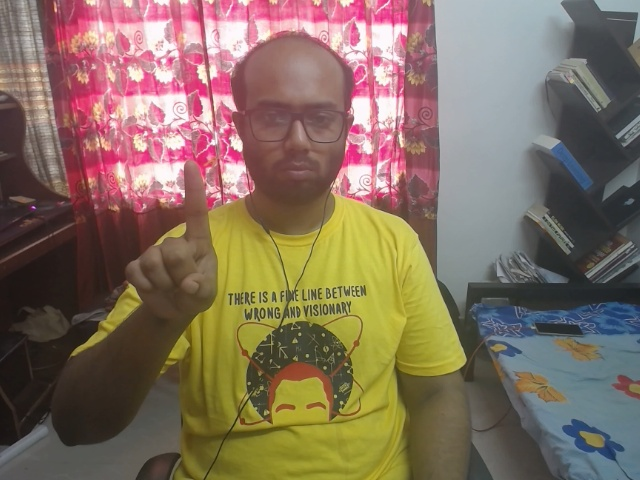one: (108, 146, 240, 329)
